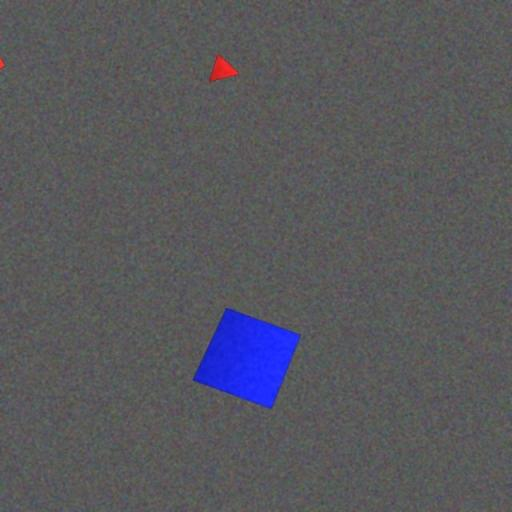BLUE_SQUARE: (192, 307, 302, 410)
